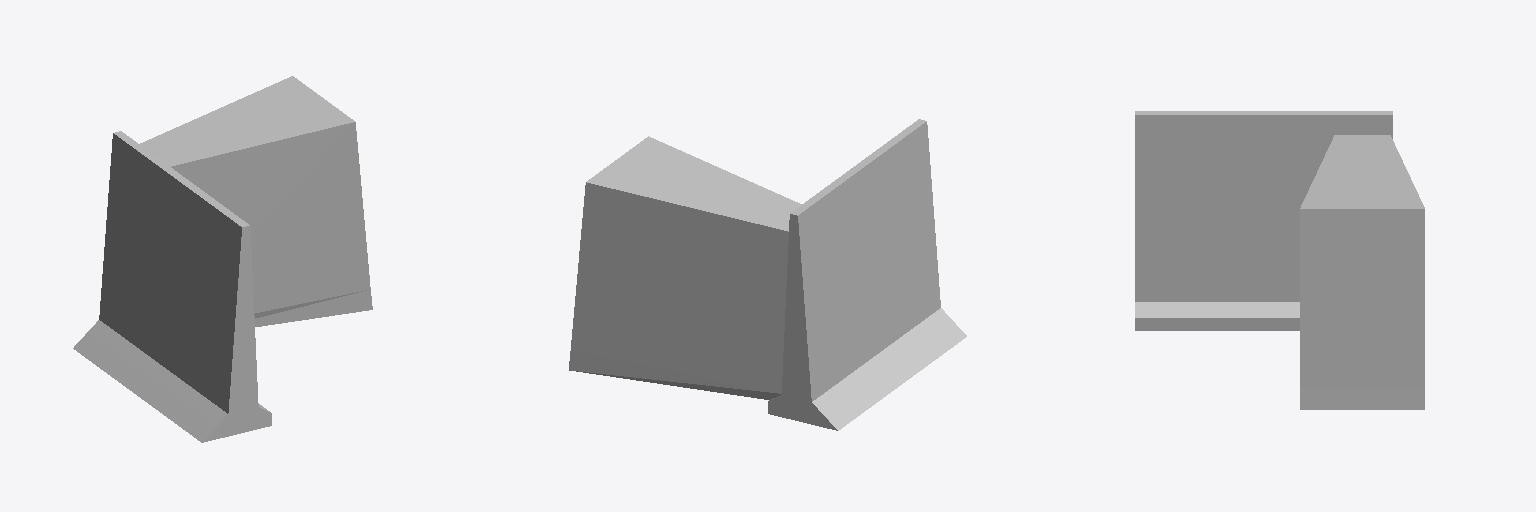
File: intrerior_1.obj
The picture shows the model from 3 angles: view 1: azimuth 30°, elevation 25°; view 2: azimuth 150°, elevation 25°; view 3: azimuth 270°, elevation 25°; orthographic projection.
Visible parts, largest first — view 1: Cube_1; view 2: Cube_1; view 3: Cube_1.
Boxes of the visible parts, x1,y1,x2,y2 form: Cube_1: [73, 76, 372, 442]; Cube_1: [569, 119, 966, 430]; Cube_1: [1135, 111, 1424, 409].
Size of the model in its own units: 642 by 497 by 638.